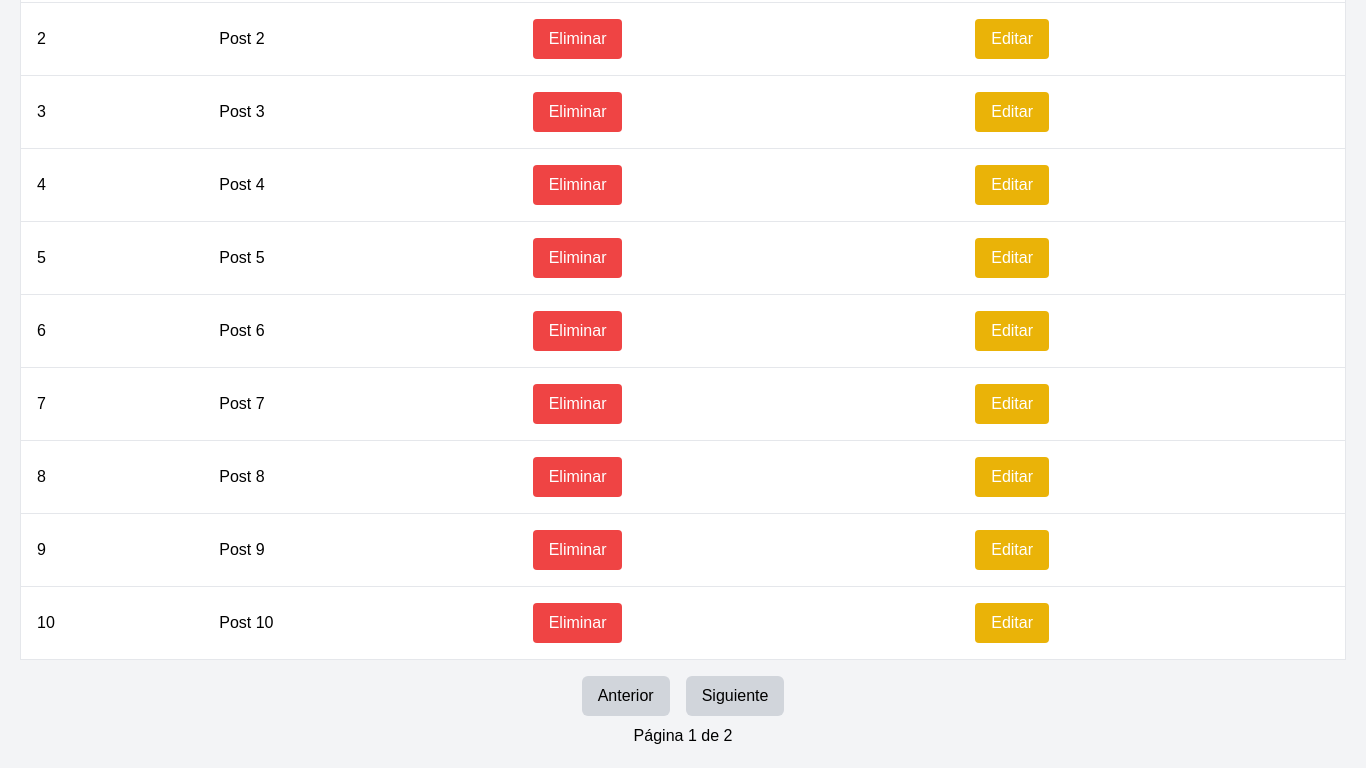
Test case: PostList Component › handles pagination correctly
(page scrolled)
Expected: the text "Post 10" is shown, 203,586 -> 517,660
# Cambia a la segunda página
Click the button "Siguiente" at (735, 696), box 686,676 -> 784,716
(page scrolled)
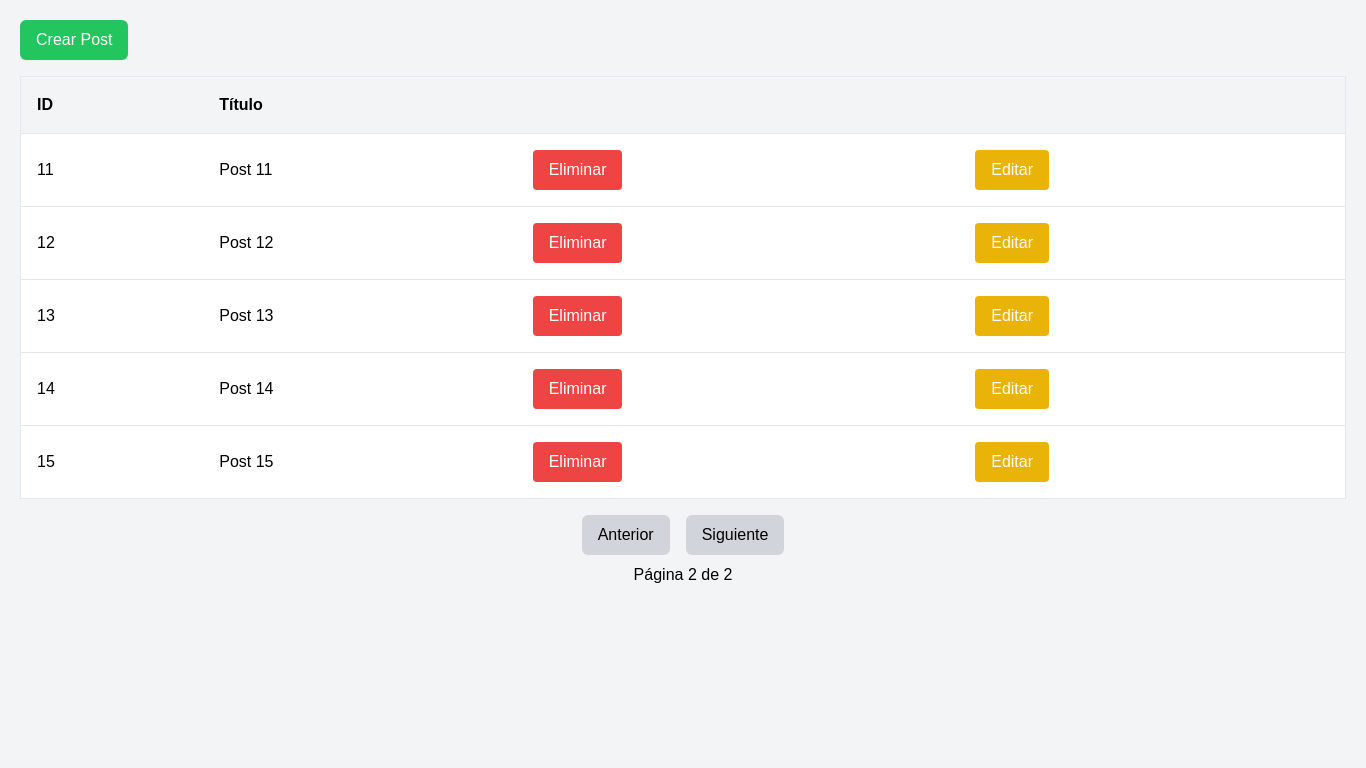
Result: the text "Post 11" is shown at 203,134 -> 517,206
Result: the text "Post 15" is shown at 203,426 -> 517,498
